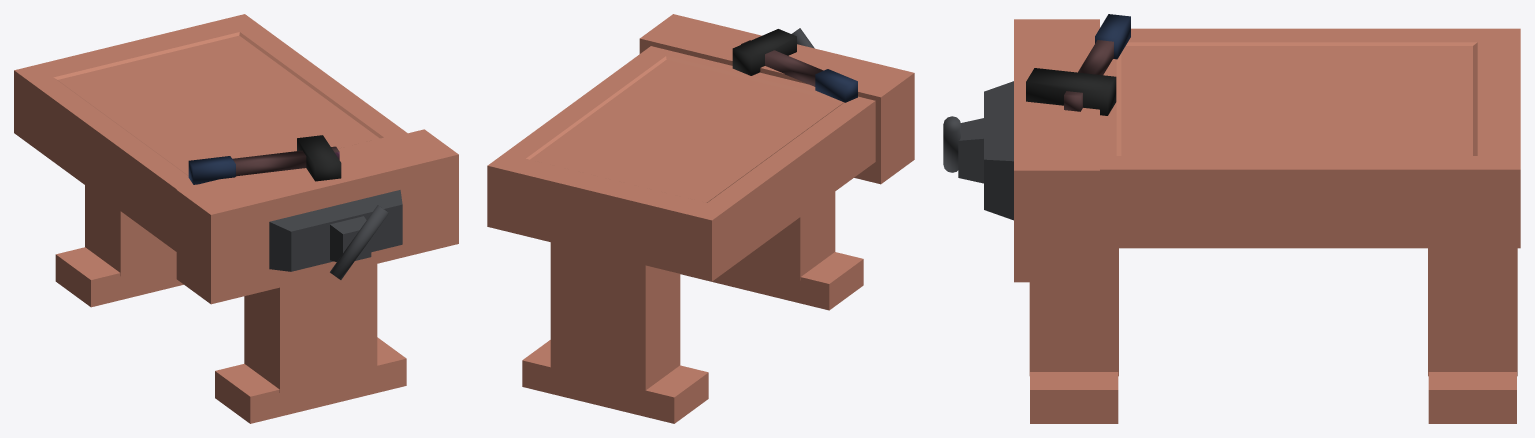
File: workbench.fbx
3 renders of one model, left to right at view 1: azimuth 30°, elevation 25°; view 2: azimuth 150°, elevation 25°; view 3: azimuth 270°, elevation 25°, orthographic. The views are drawn at different scales.
Parts seen in each view (by area): view 1: Cube.018; view 2: Cube.018; view 3: Cube.018.
Part boxes in pixels (<box>): Cube.018: <box>14,14,458,423</box>; Cube.018: <box>487,14,914,423</box>; Cube.018: <box>943,14,1520,423</box>.
Bounding box in the file's own units: 122 × 113 × 196.
